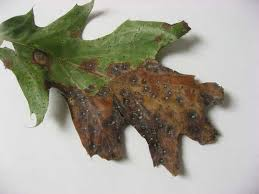Diseased_Leaves: (108, 64, 208, 125), (62, 87, 106, 145), (148, 132, 180, 173), (20, 45, 59, 71), (80, 63, 97, 71)
